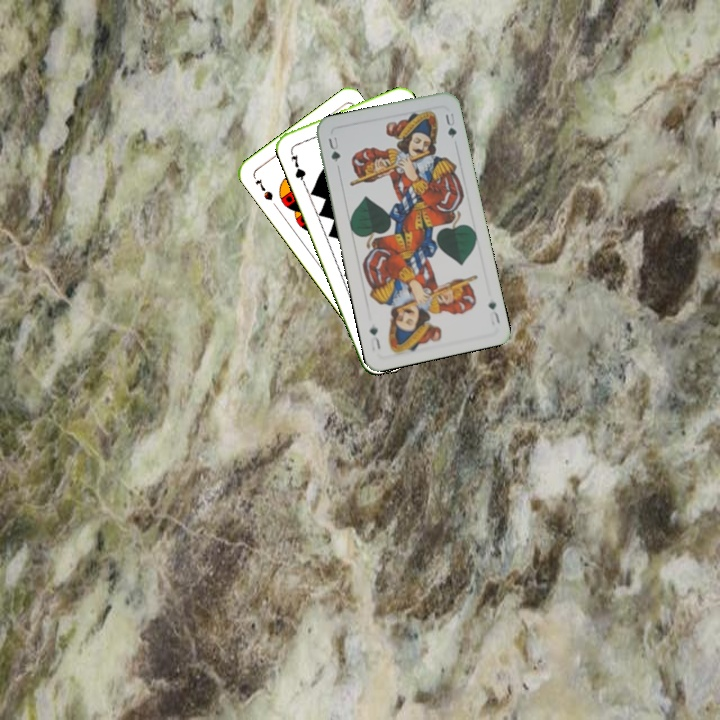G7: (287, 151, 308, 184)
GU: (324, 132, 343, 165), (484, 298, 502, 326)
S7: (251, 175, 275, 203)
